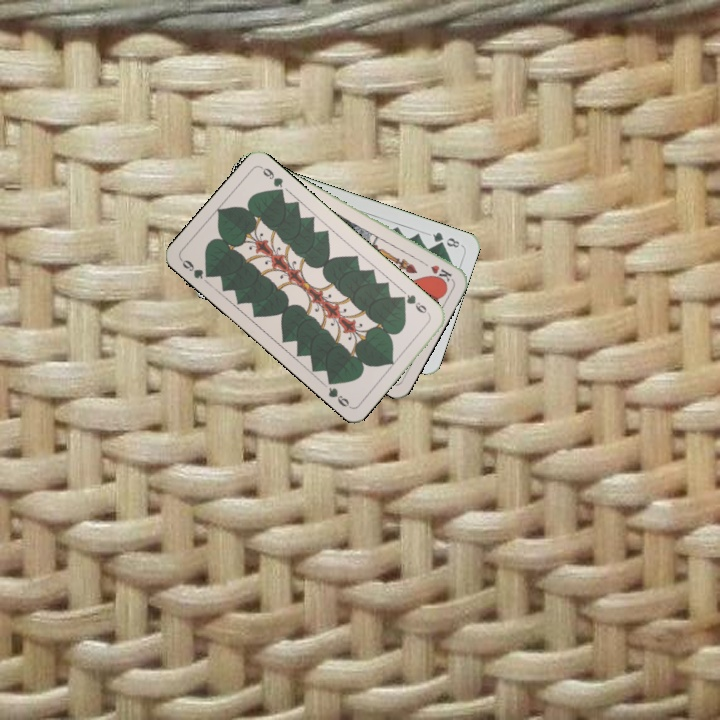G8: (428, 228, 464, 250)
G9: (396, 290, 433, 318), (177, 255, 215, 282)
HK: (417, 256, 455, 284)
